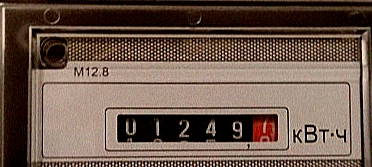0: (123, 117, 137, 138)
1: (150, 117, 162, 138)
2: (175, 118, 191, 140)
4: (204, 118, 217, 138)
7: (258, 115, 271, 135)
9: (230, 120, 243, 141)
screen: (101, 104, 292, 155)
